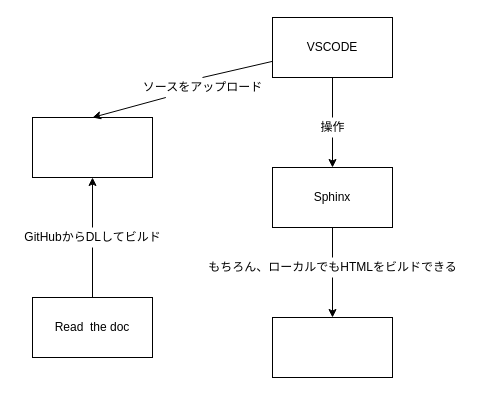
The diagram is 479 pixels wide and 395 high, and some of its shapes have lost their labels. Here are the shapes that lost their labels. From the top down, the centre of each, then its label:
At [92,147]: "Github".
At [332,347]: "HTML".
